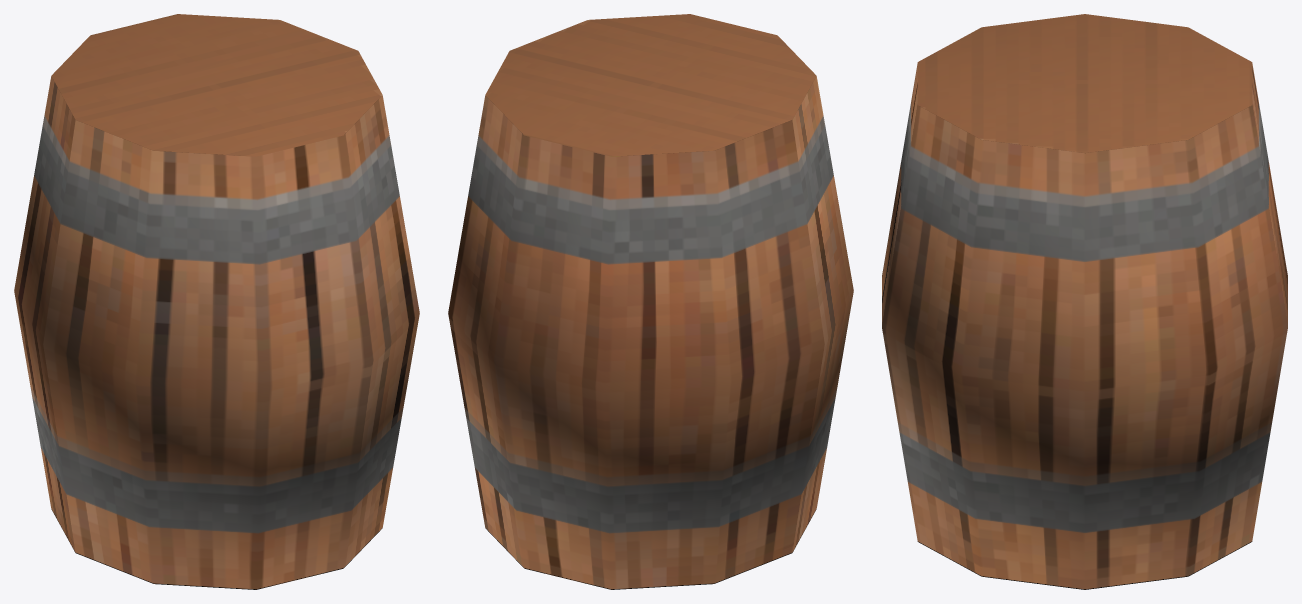
The model's file is BARREL.glb.
3 renders of one model, left to right at view 1: azimuth 30°, elevation 25°; view 2: azimuth 150°, elevation 25°; view 3: azimuth 270°, elevation 25°, orthographic.
Visible parts, largest first — view 1: BARREL; view 2: BARREL; view 3: BARREL.
Boxes of the visible parts, bbox=[...] form: BARREL: bbox=[14, 14, 419, 589]; BARREL: bbox=[448, 14, 853, 589]; BARREL: bbox=[882, 14, 1287, 589].
Bounding box in the file's own units: 17.81 × 21.21 × 17.86.
Materials: 1 (1 with a texture image).
